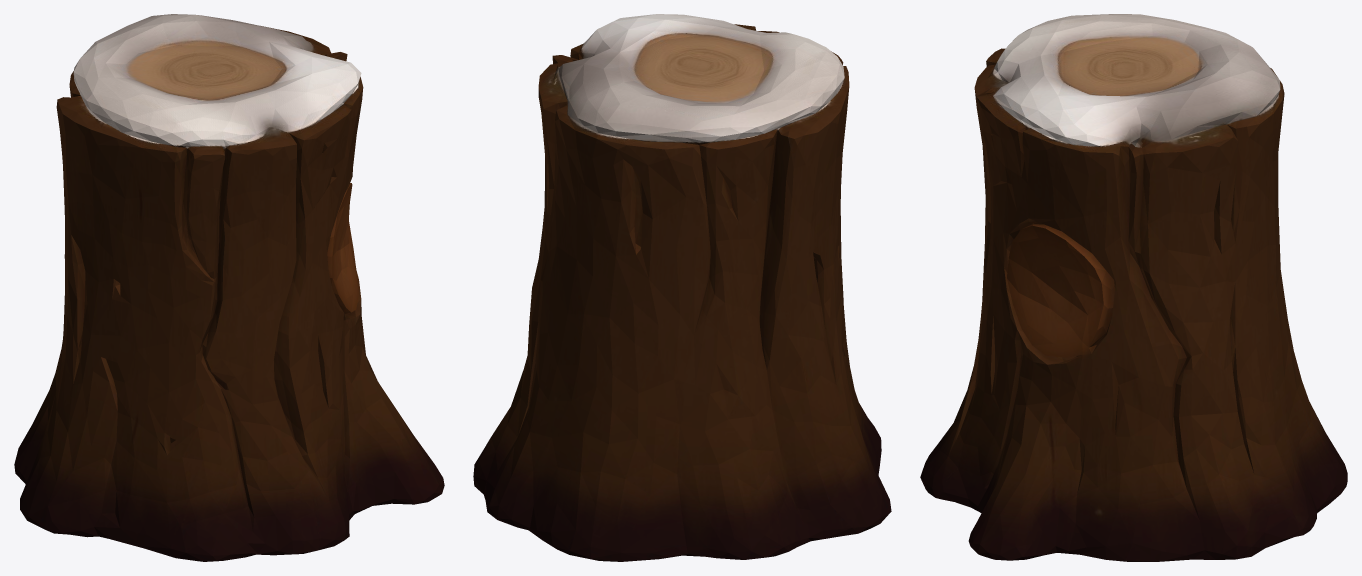
Rendered from stump-tall.glb.
The picture shows the model from 3 angles, left to right: view 1: azimuth 30°, elevation 25°; view 2: azimuth 150°, elevation 25°; view 3: azimuth 270°, elevation 25°; orthographic projection.
Visible parts, largest first — view 1: geometry_0; view 2: geometry_0; view 3: geometry_0.
Boxes of the visible parts, <box> form: geometry_0: <box>14,14,444,561</box>; geometry_0: <box>473,14,891,561</box>; geometry_0: <box>920,14,1347,561</box>.
Size of the model in its own units: 0.7905 by 0.8913 by 0.8216.
1 material, 1 textured.
